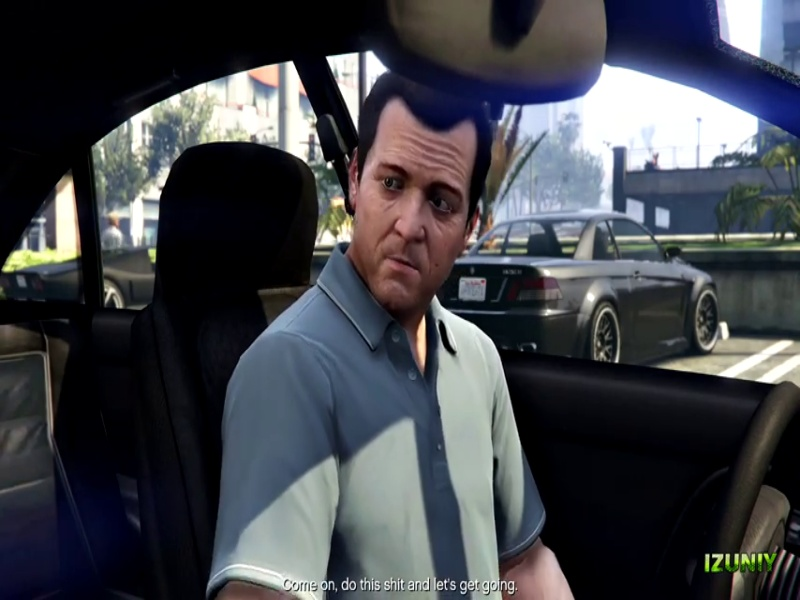human: (198, 46, 596, 598)
